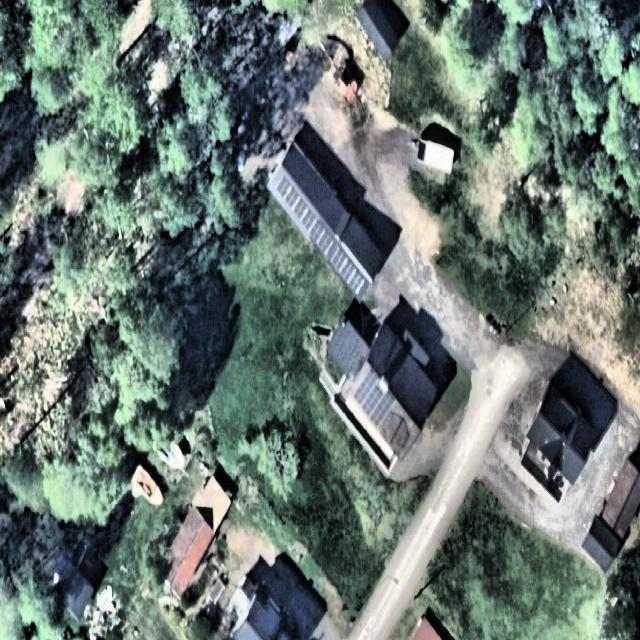roof_pv: (352, 369, 394, 426), (326, 244, 363, 296), (275, 174, 310, 226), (300, 208, 333, 258)
